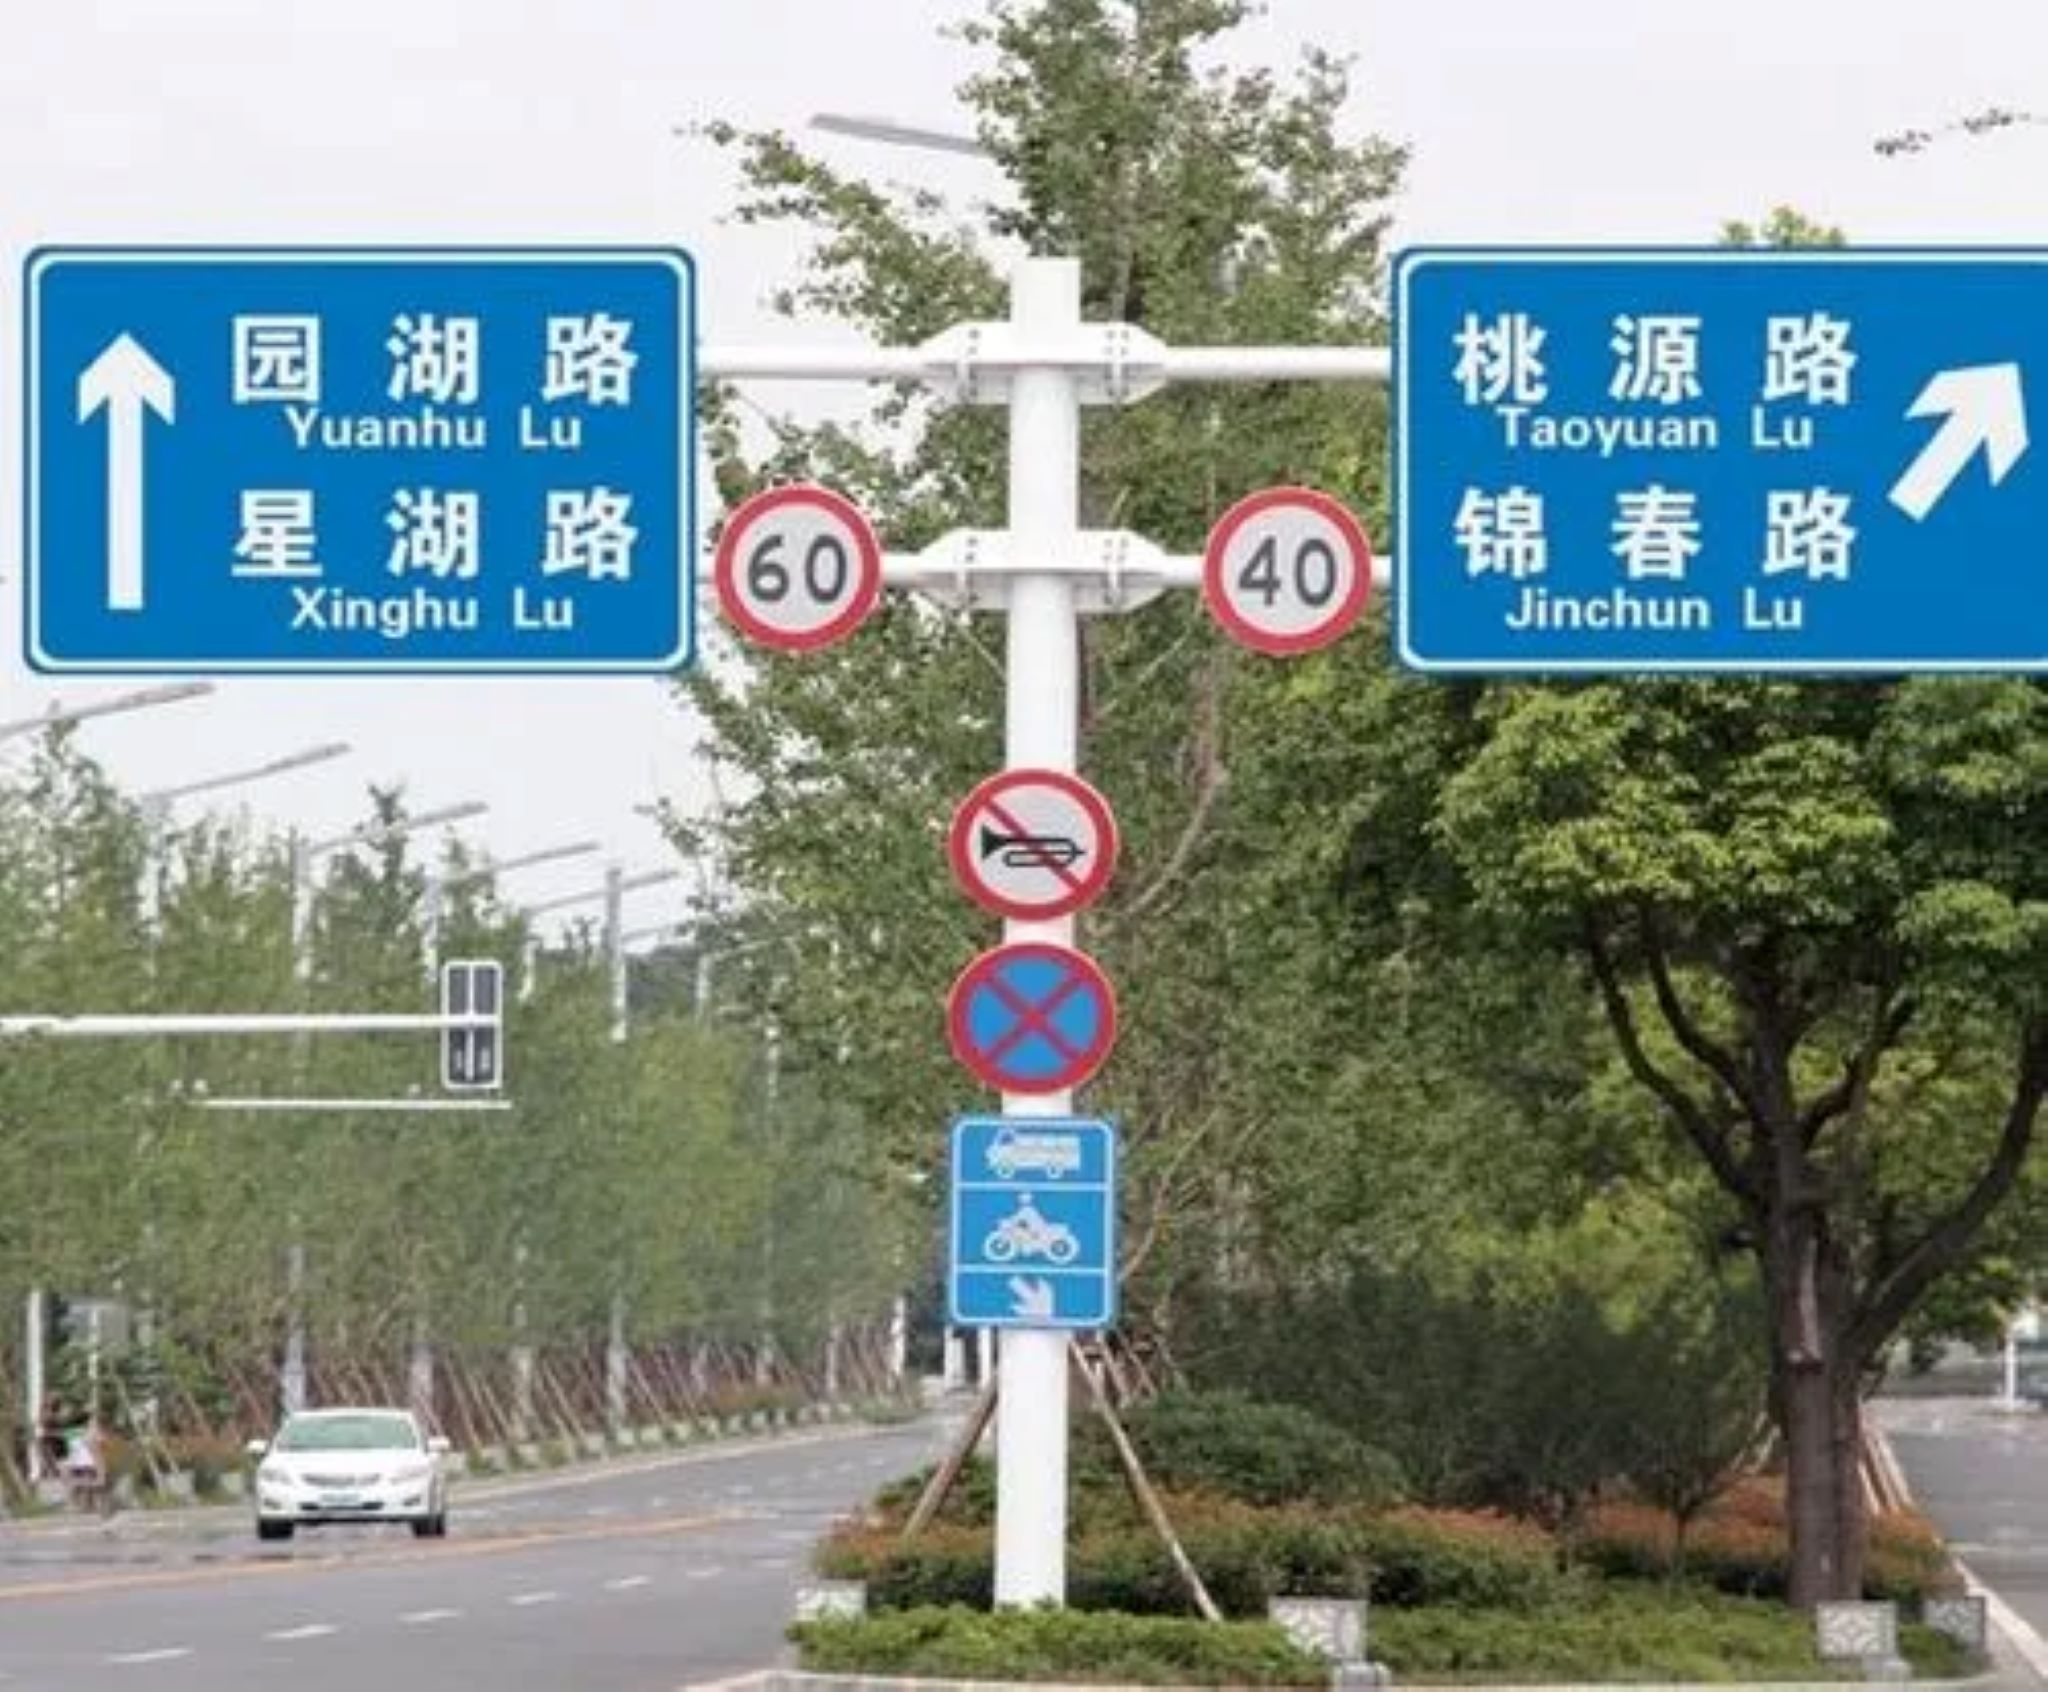p11: (949, 772, 1131, 923)
pl40: (1203, 476, 1373, 661)
pl60: (720, 480, 874, 646)
pn: (953, 940, 1112, 1102)
